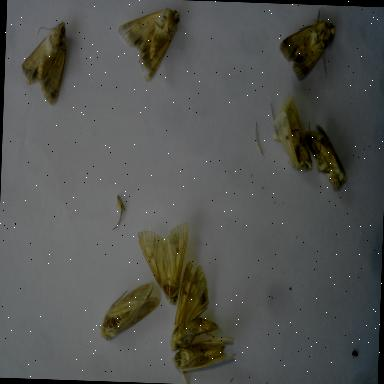abw: (132, 214, 192, 310), (167, 257, 224, 356), (114, 4, 182, 86), (17, 13, 70, 108), (276, 7, 338, 84), (98, 276, 162, 345), (266, 90, 317, 174), (299, 117, 351, 196), (170, 327, 239, 384)
